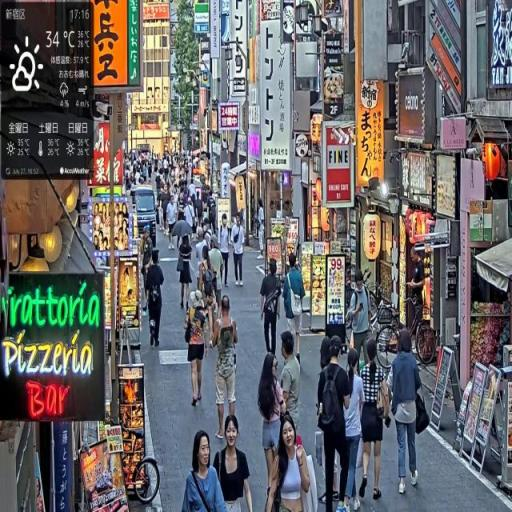person: (387, 328, 430, 499), (317, 337, 352, 512), (359, 336, 392, 505), (267, 410, 318, 512), (258, 352, 287, 512), (212, 410, 253, 512), (341, 348, 366, 512), (212, 297, 240, 440), (184, 287, 214, 408), (184, 430, 228, 512), (284, 252, 307, 373), (348, 272, 372, 375), (279, 329, 302, 431), (261, 261, 283, 358), (146, 248, 166, 352), (177, 234, 195, 313), (232, 214, 246, 289), (219, 216, 233, 290)
